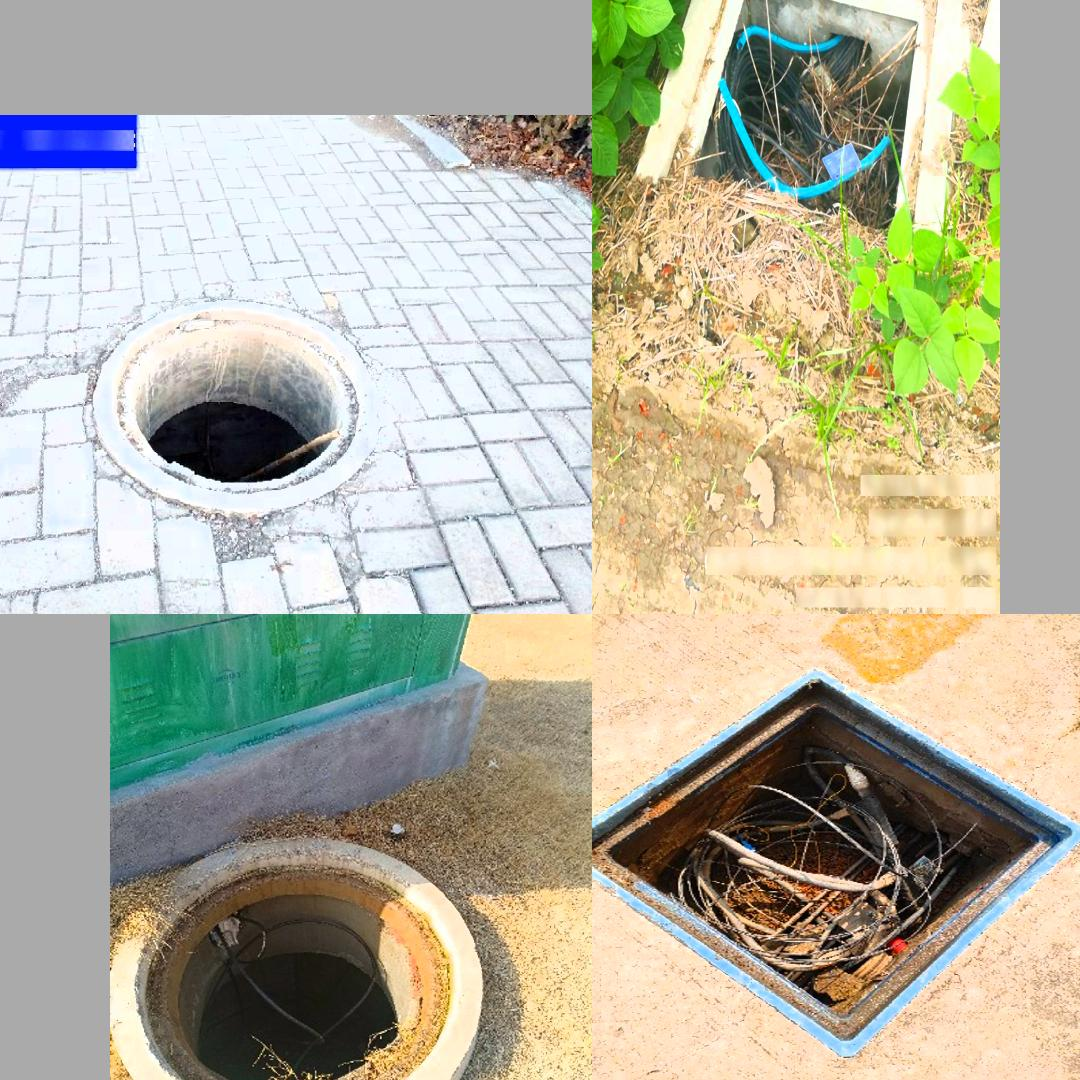lose: (593, 670, 1080, 1057), (626, 0, 969, 269), (110, 836, 484, 1080), (91, 297, 376, 493)
